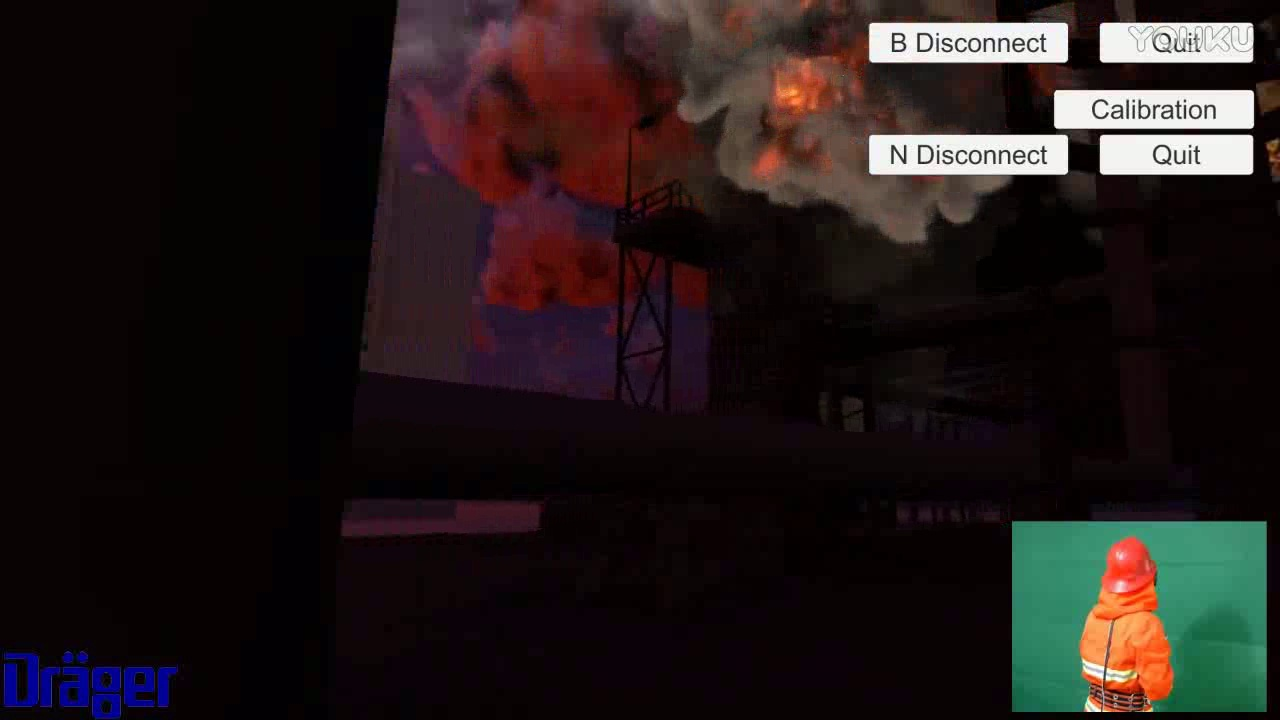fire: (757, 40, 869, 204)
